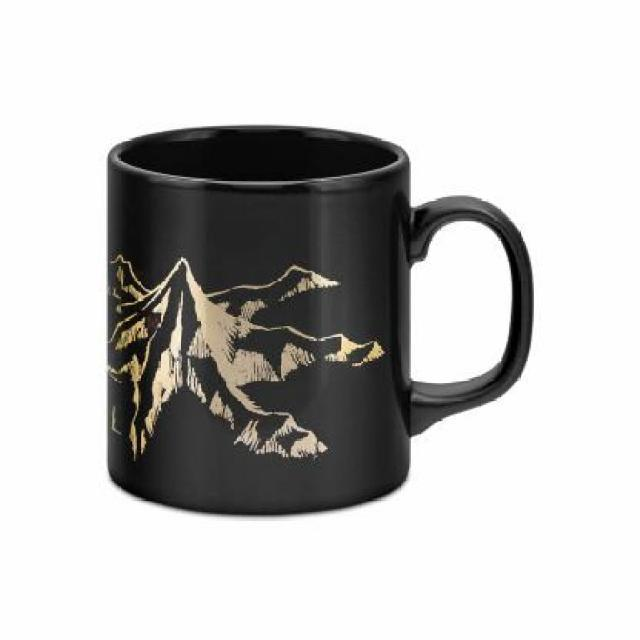taza: (92, 119, 544, 528)
